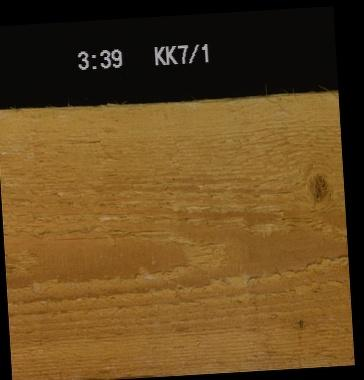small_knot: (294, 316, 306, 331)
sound_knot: (303, 172, 330, 205)
